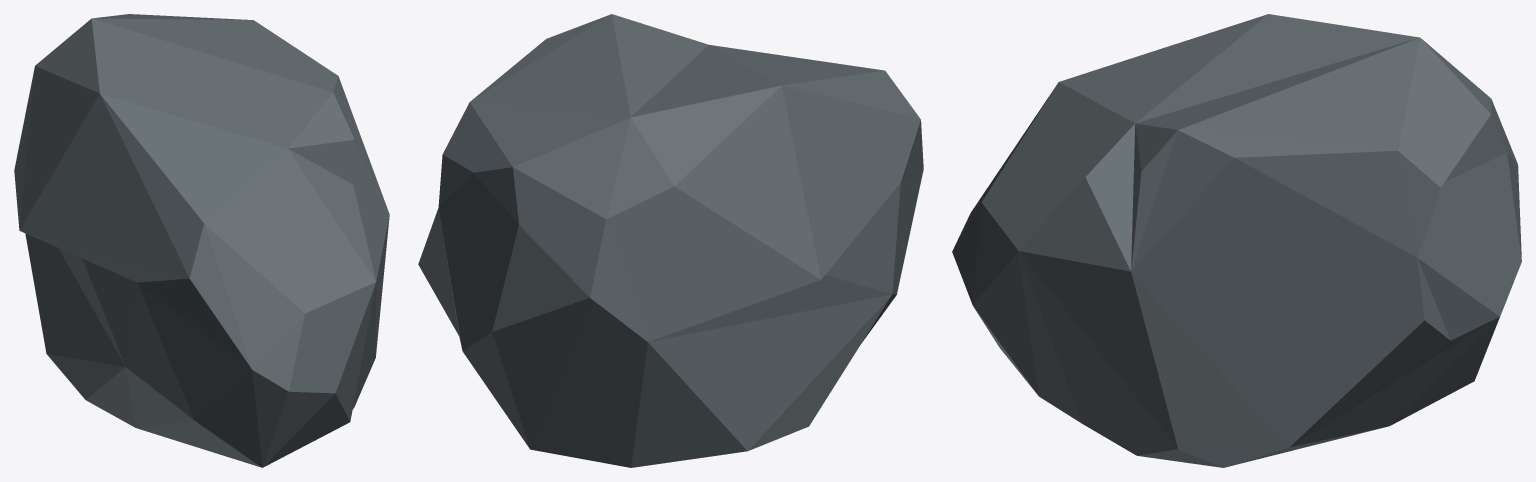
File: Rock_2_LOD1.fbx
The picture shows the model from 3 angles, left to right: view 1: azimuth 30°, elevation 25°; view 2: azimuth 150°, elevation 25°; view 3: azimuth 270°, elevation 25°; orthographic projection. The views are drawn at different scales.
Visible parts, largest first — view 1: Group32189; view 2: Group32189; view 3: Group32189.
Boxes of the visible parts, x1=… form: Group32189: x1=14, y1=14, x2=389, y2=467; Group32189: x1=418, y1=14, x2=923, y2=467; Group32189: x1=952, y1=14, x2=1521, y2=467.
Size of the model in its own units: 122 by 125 by 184.
